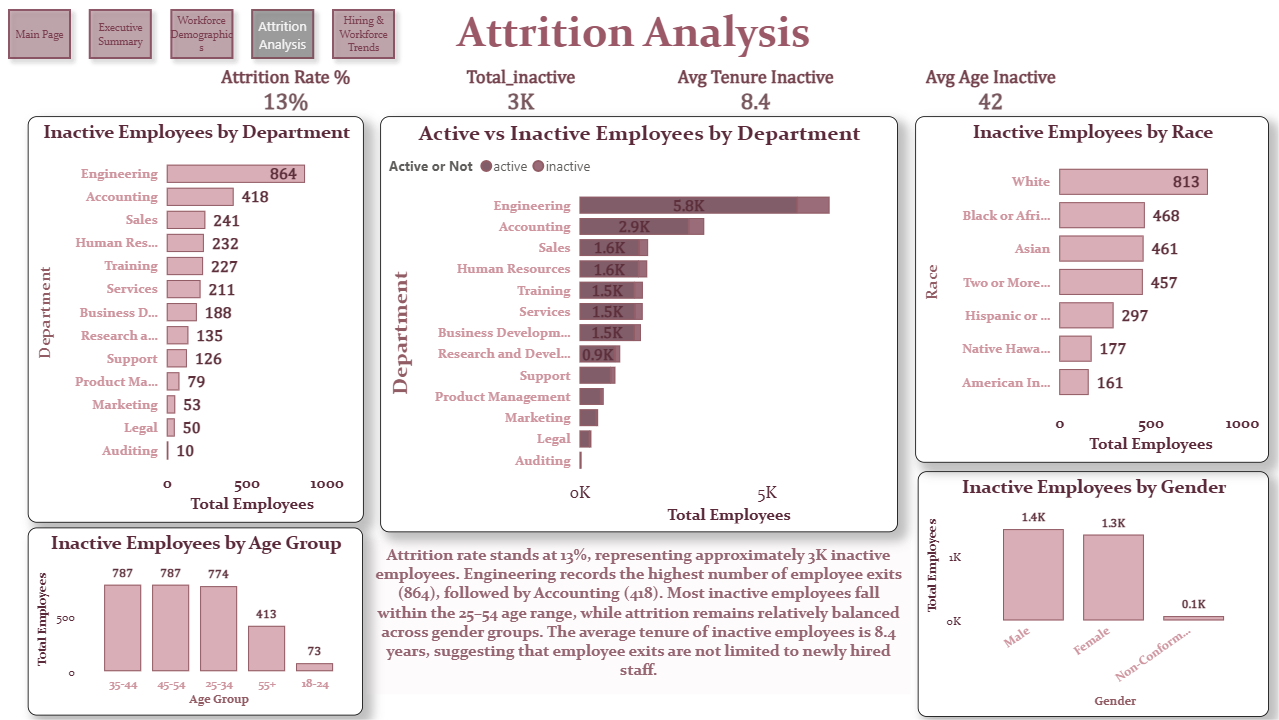

The dashboard page shown, as its layout file describes it:
{"tool":"powerbi","page":{"name":"Attrition Analysis ","canvas":[1280,720],"ordinal":3},"visuals":[{"type":"textbox","box":[280,0,718.8,68.8],"z":0},{"type":"cardVisual","fields":{"Data":["_Mesures.Attrition Rate %","_Mesures.Total_inactive","_Mesures.Avg Tenure Inactive","_Mesures.Avg Age Inactive"]},"box":[156.2,47.5,966.2,91.2],"z":1000},{"type":"barChart","title":"Inactive Employees by Department","fields":{"Category":["HR Data.department"],"Y":["_Mesures.Total_Employees"]},"box":[28.8,116.2,336.2,406.2],"z":2000},{"type":"columnChart","title":"Inactive Employees by Gender","fields":{"Category":["HR Data.gender"],"Y":["_Mesures.Total_Employees"]},"box":[918.3,470.8,351,245.8],"z":3000},{"type":"columnChart","title":"Inactive Employees by Age Group","fields":{"Category":["HR Data.Age Group2"],"Y":["_Mesures.Total_Employees"]},"box":[29.3,527,335.1,188.3],"z":4000},{"type":"barChart","title":"Inactive Employees by Race","fields":{"Category":["HR Data.race"],"Y":["_Mesures.Total_Employees"]},"box":[916.2,116.2,353.8,346.2],"z":5000},{"type":"barChart","title":"Active vs Inactive Employees by Department","fields":{"Category":["HR Data.department"],"Y":["_Mesures.Total_Employees"],"Series":["HR Data.Active_or_not"]},"box":[381.2,116.2,517.5,416.2],"z":6000},{"type":"textbox","box":[367.1,540,544.3,154.3],"z":7000},{"type":"pageNavigator","box":[0,0,407.5,68.8],"z":8000}]}

Visuals, with their boxes in screenshot pixels (x1, y1, x2, y2), scaled from the page's 1280x720 canvas onto the 1279x720 screenshot:
textbox: region(280, 0, 998, 69)
cardVisual - _Mesures.Attrition Rate % x _Mesures.Total_inactive: region(156, 48, 1122, 139)
"Inactive Employees by Department" barChart: region(29, 116, 365, 522)
"Inactive Employees by Gender" columnChart: region(918, 471, 1268, 717)
"Inactive Employees by Age Group" columnChart: region(29, 527, 364, 715)
"Inactive Employees by Race" barChart: region(915, 116, 1269, 462)
"Active vs Inactive Employees by Department" barChart: region(381, 116, 898, 532)
textbox: region(367, 540, 911, 694)
pageNavigator: region(0, 0, 407, 69)
